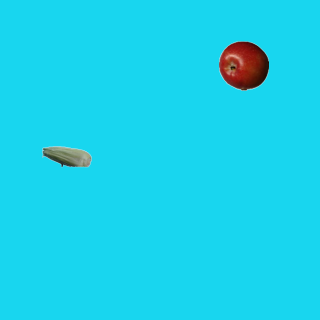Apple Braeburn: (218, 40, 268, 90)
Corn Husk: (41, 131, 91, 181)
